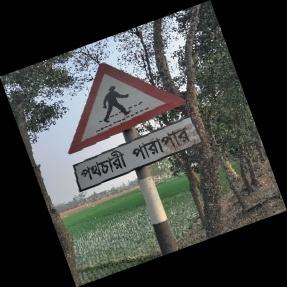Pedestrian-crossing: (67, 63, 200, 195)
